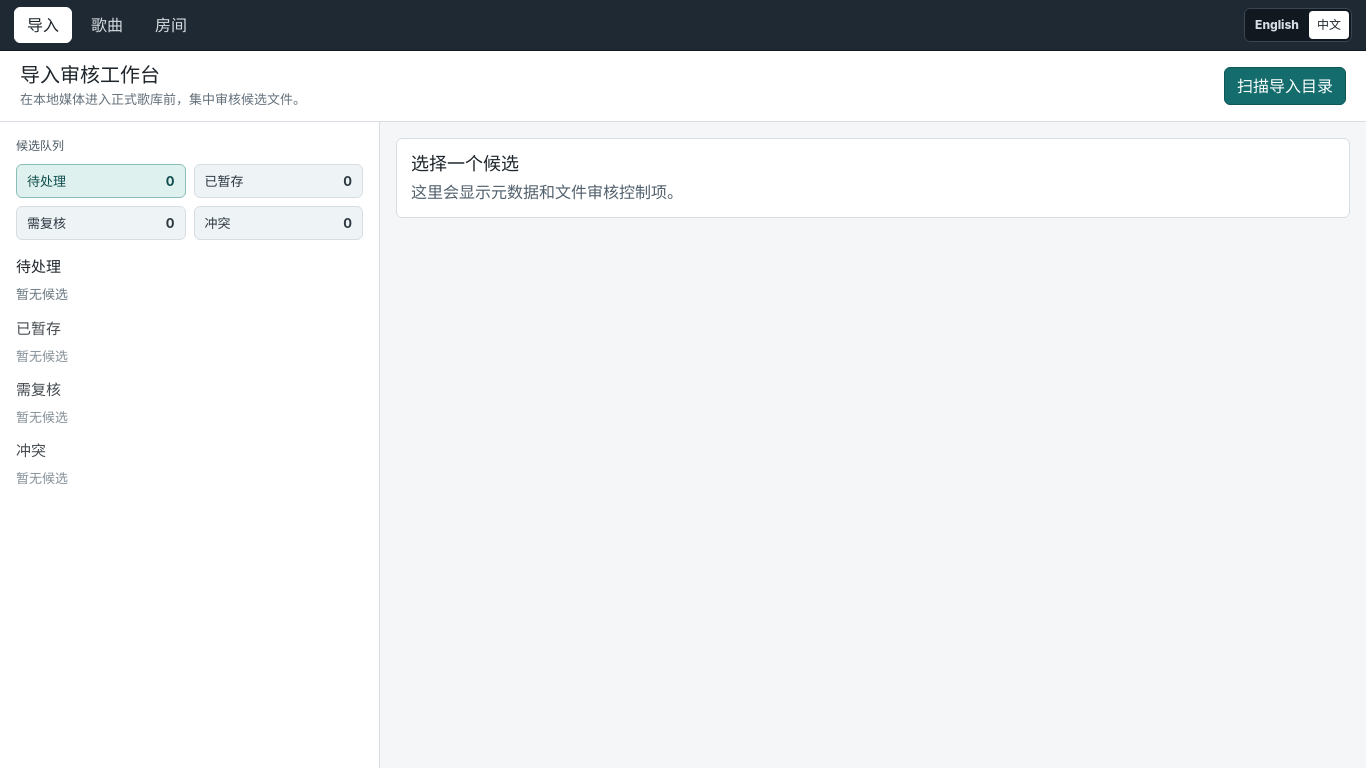
song catalog maintenance › defaults to Imports and switches to Songs without reloading
Expected: the heading "导入审核工作台" is shown, [20, 63, 160, 87]
Click the button "歌曲" at (107, 25), box [78, 7, 136, 43]
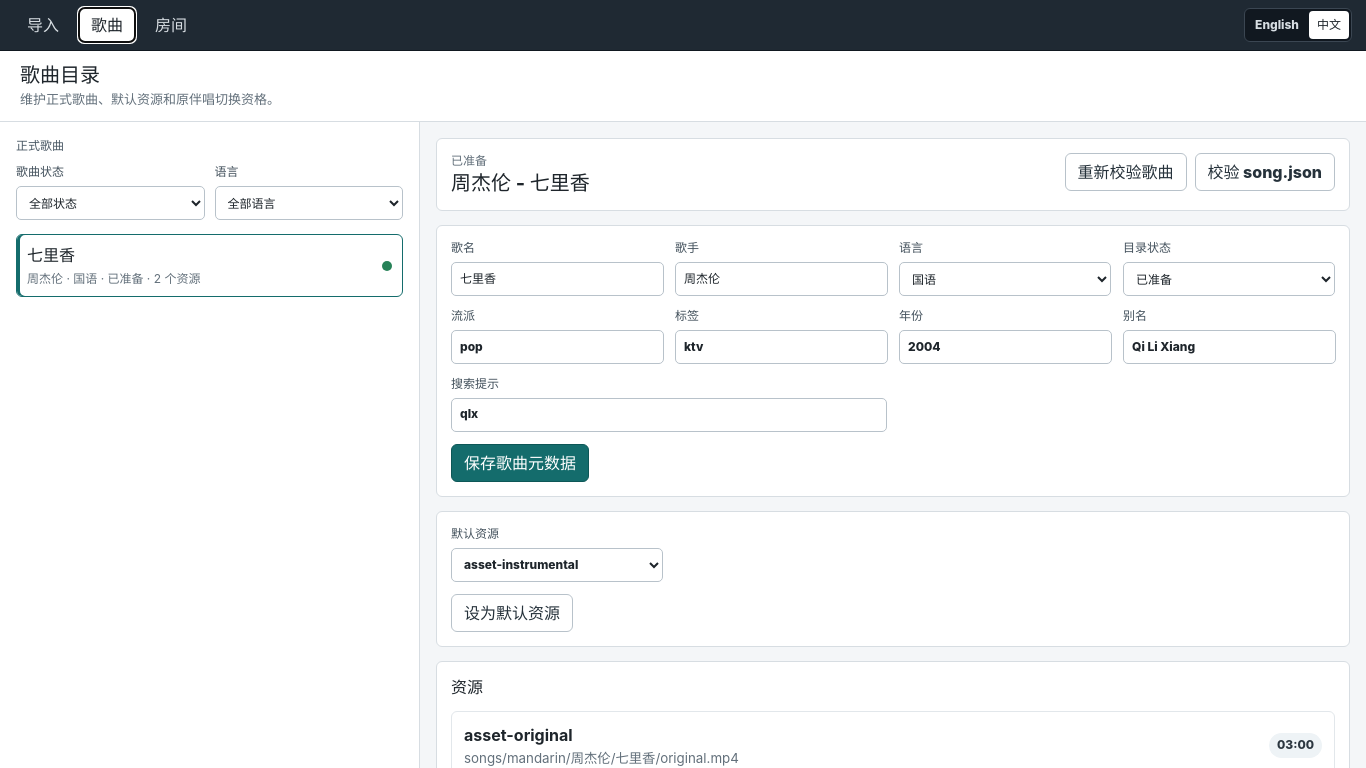
Expected: the button "导入" is shown, [14, 7, 72, 43]
Expected: the heading "歌曲目录" is shown, [20, 63, 100, 87]
